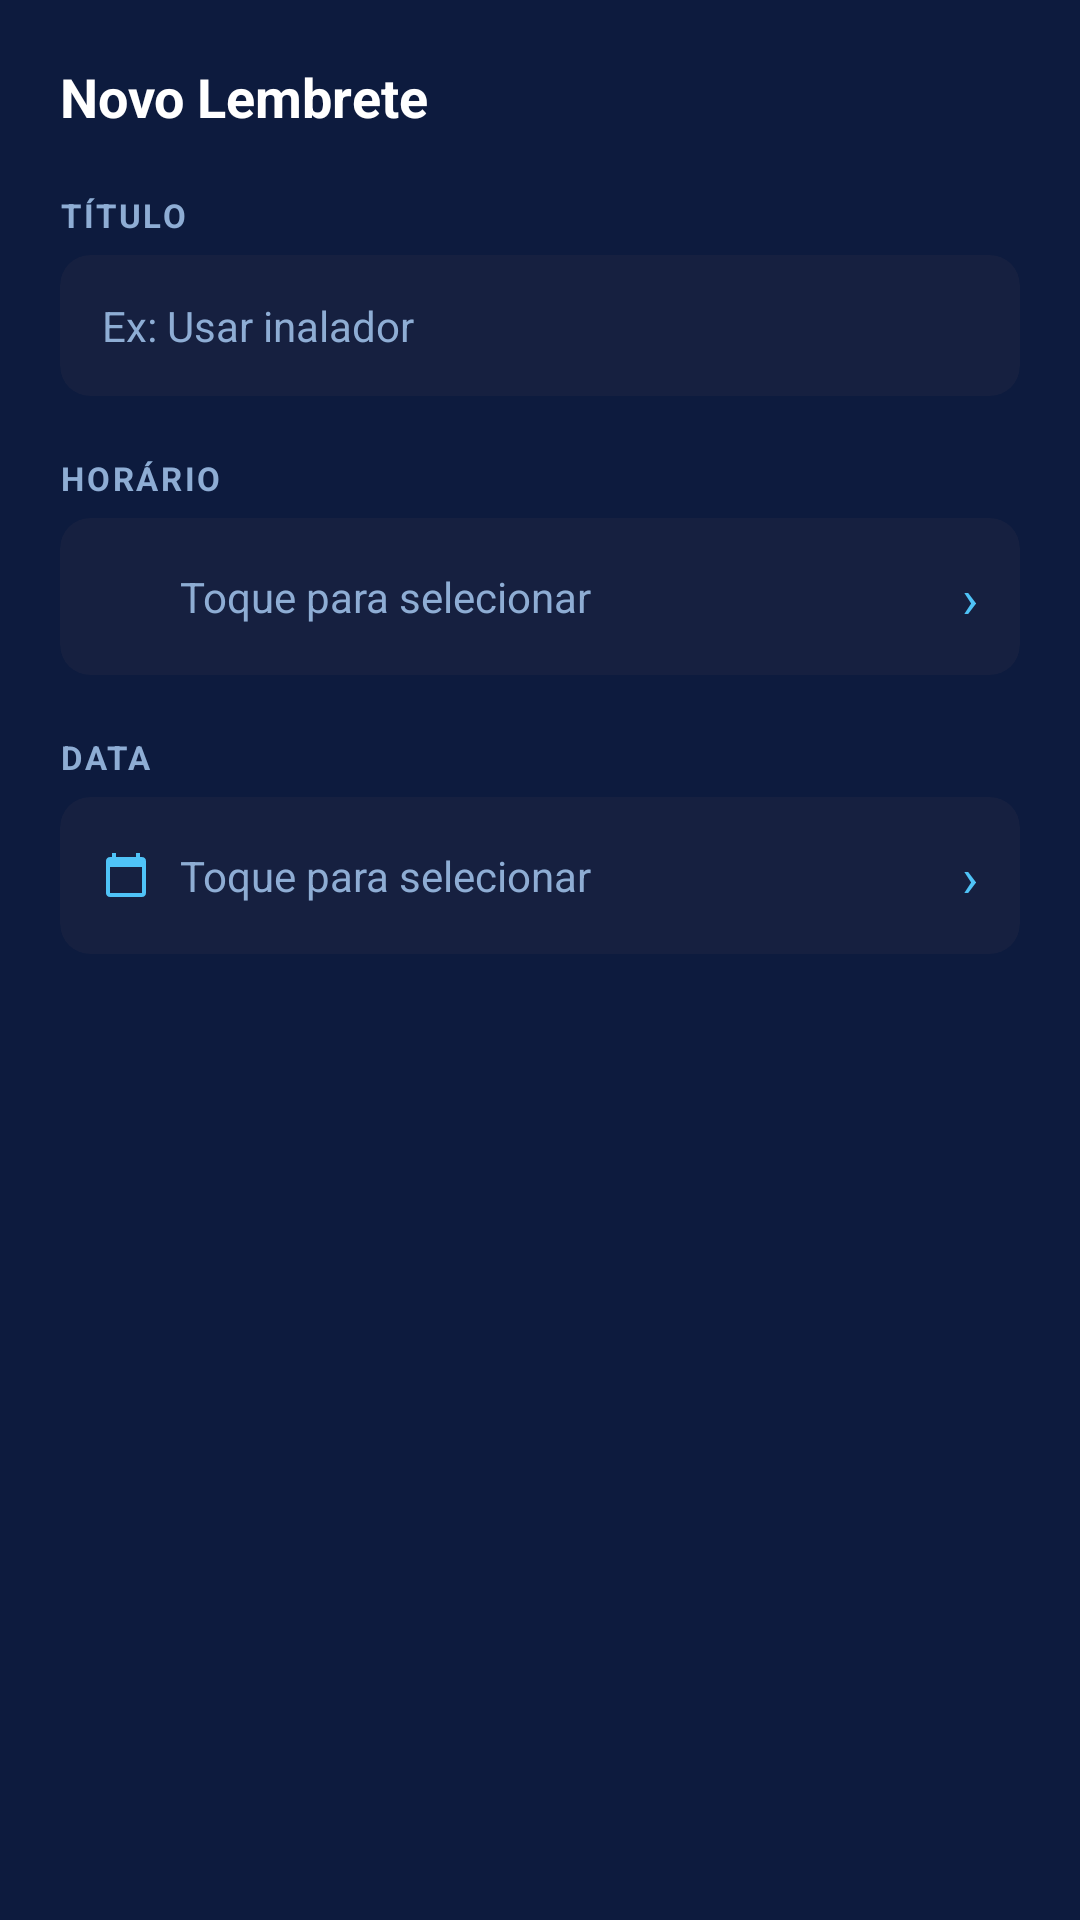

Locate icon controls on the screen. Image size 1080*1920, boxes as (x1, y1, x2, y2).
calendar: (106, 853, 146, 897)
